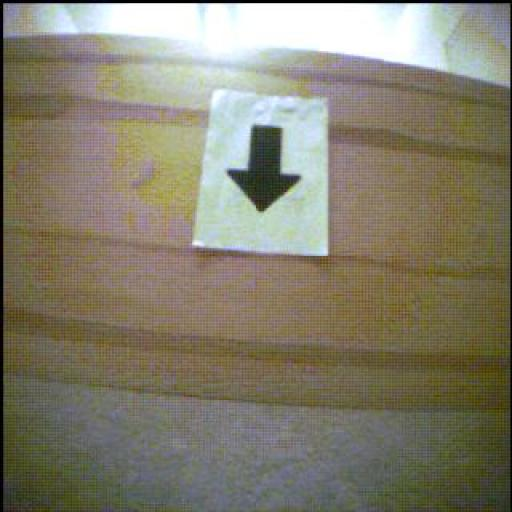arrow: (228, 126, 302, 212)
